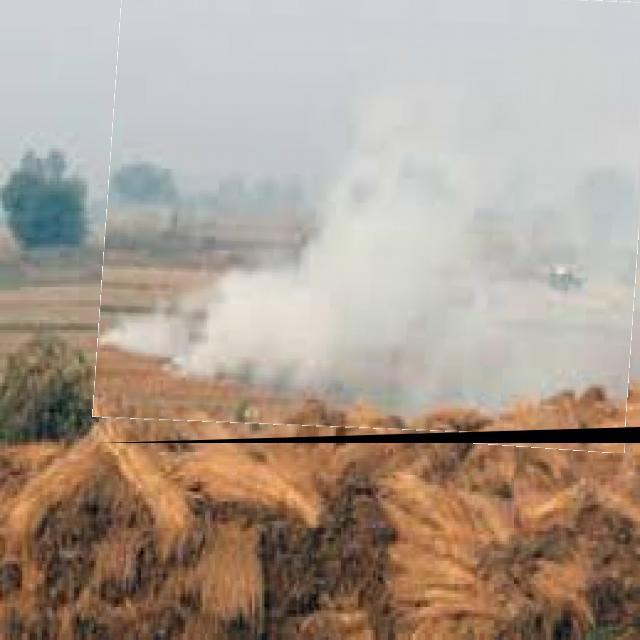smoke: (118, 147, 624, 403)
